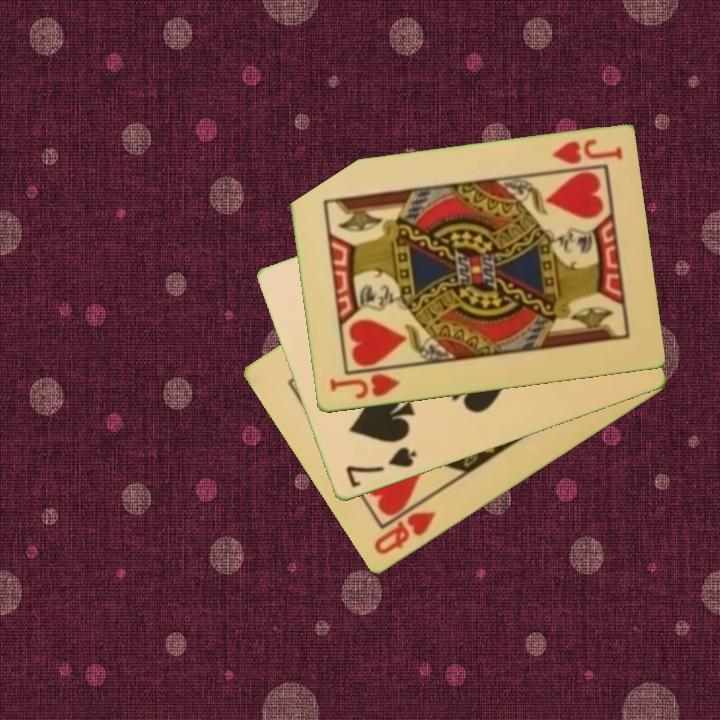7s: (342, 444, 420, 491)
Jh: (325, 364, 406, 403), (548, 136, 625, 168)
Qh: (370, 508, 439, 559)
